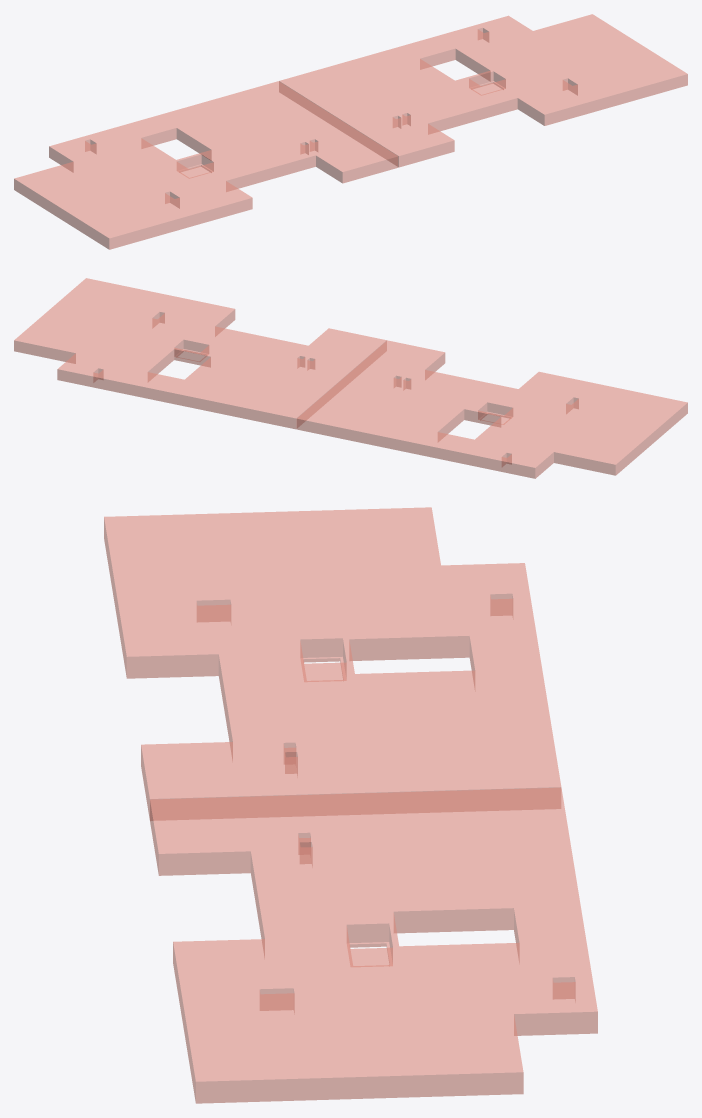
File: Roof_structure.glb
3 renders of one model, top to bottom at view 1: azimuth 30°, elevation 25°; view 2: azimuth 150°, elevation 25°; view 3: azimuth 270°, elevation 25°, orthographic. The views are drawn at different scales.
Visible parts, largest first — view 1: Geschossdecke:DA-01 STB 20_Däm. 30_Gründach 15:919865; view 2: Geschossdecke:DA-01 STB 20_Däm. 30_Gründach 15:919865; view 3: Geschossdecke:DA-01 STB 20_Däm. 30_Gründach 15:919865.
Boxes of the visible parts, left/top/right/bottom form: Geschossdecke:DA-01 STB 20_Däm. 30_Gründach 15:919865: left=14, top=14, right=687, bottom=249; Geschossdecke:DA-01 STB 20_Däm. 30_Gründach 15:919865: left=14, top=278, right=687, bottom=478; Geschossdecke:DA-01 STB 20_Däm. 30_Gründach 15:919865: left=104, top=507, right=597, bottom=1103.
Size of the model in its own units: 36.88 by 0.6552 by 13.4.
